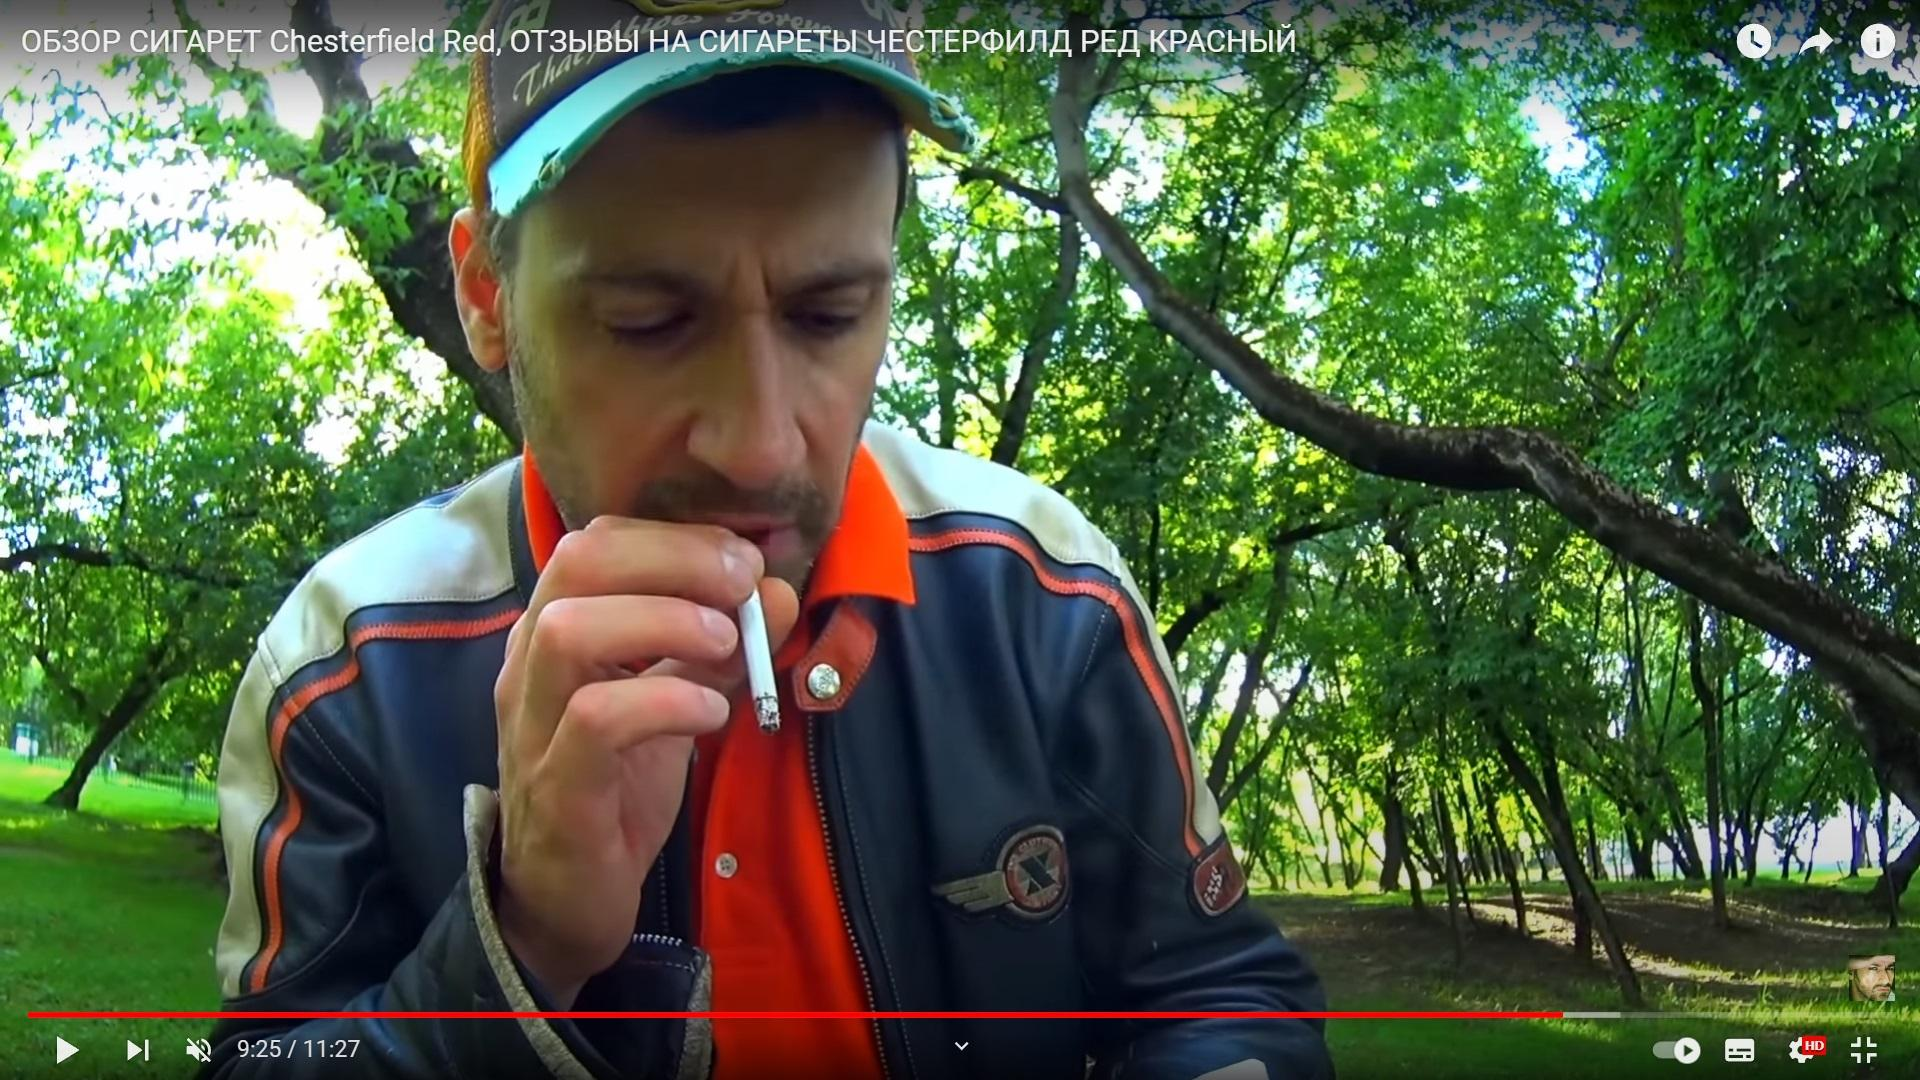cigarette: (737, 587, 781, 736)
